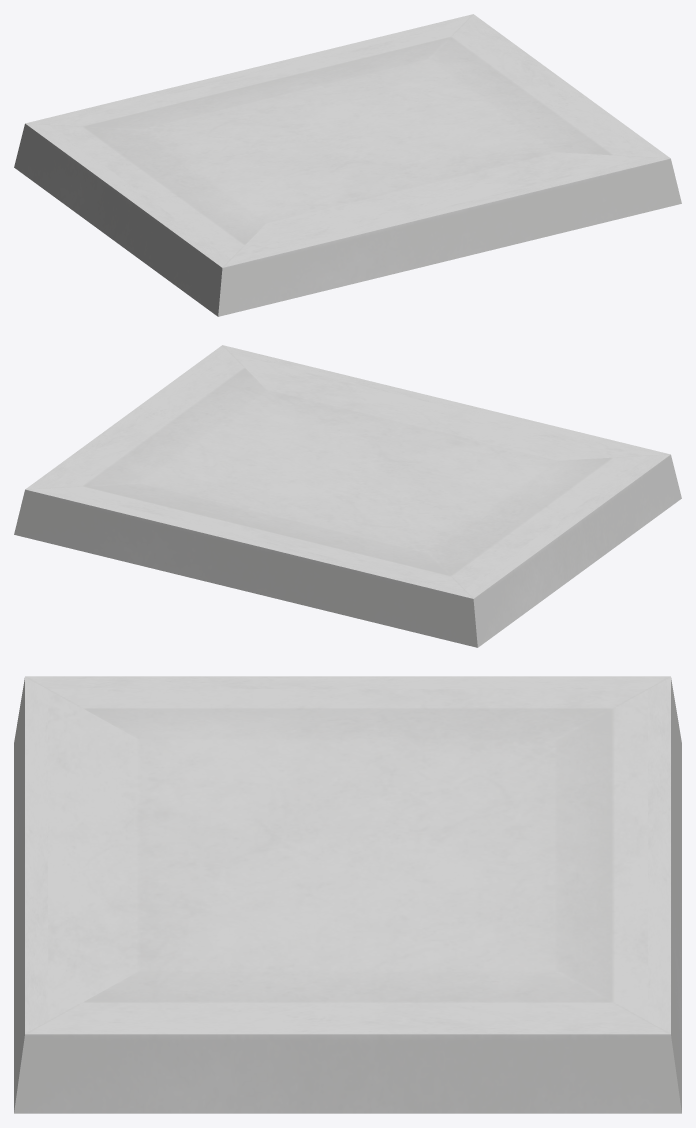
Rendered from cooler_tampa_TEXTURIZADO.fbx.
3 views of the same model, one above another, from view 1: azimuth 30°, elevation 25°; view 2: azimuth 150°, elevation 25°; view 3: azimuth 270°, elevation 25° (orthographic). The views are drawn at different scales.
Parts seen in each view (by area): view 1: Cube.080; view 2: Cube.080; view 3: Cube.080.
Boxes of the visible parts, x1=… form: Cube.080: x1=14, y1=14, x2=681, y2=316; Cube.080: x1=14, y1=345, x2=681, y2=647; Cube.080: x1=14, y1=676, x2=681, y2=1113.
Bounding box in the file's own units: 68.53 × 6.3 × 52.24.
Materials: 1 (1 with a texture image).
